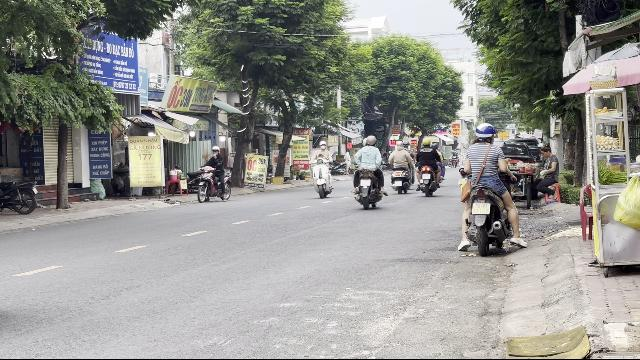helmet: (475, 123, 495, 143)
licenseplate: (472, 202, 490, 213)
motorcyclist: (454, 122, 522, 256)
